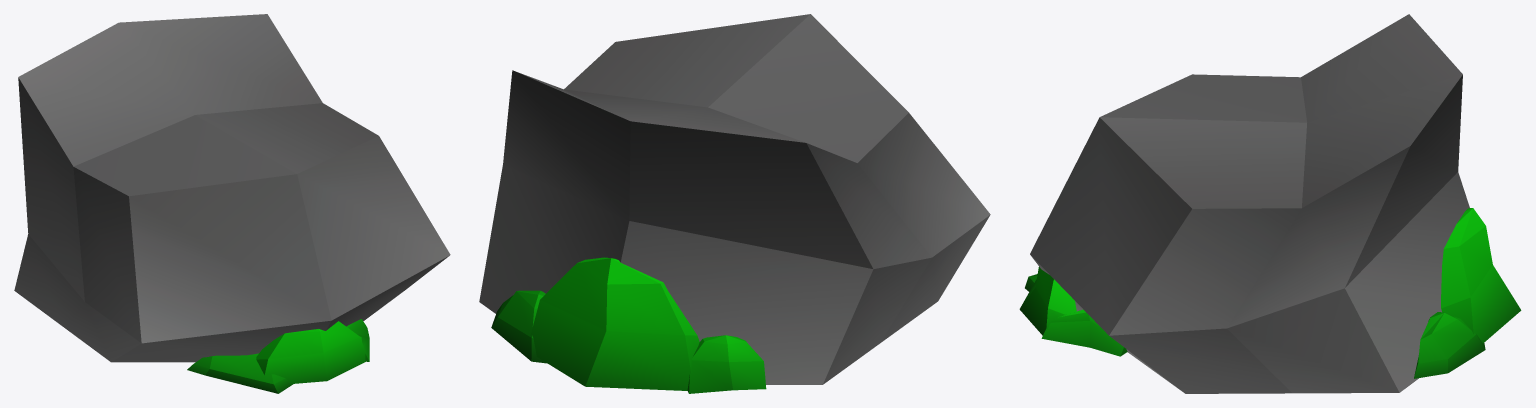
Rendered from Pedra.fbx.
3 renders of one model, left to right at view 1: azimuth 30°, elevation 25°; view 2: azimuth 150°, elevation 25°; view 3: azimuth 270°, elevation 25°, orthographic. The views are drawn at different scales.
Visible parts, largest first — view 1: Pedra; view 2: Pedra; view 3: Pedra.
Part boxes in pixels (box(x1,y1,x2,y2)): Pedra: box(14, 14, 450, 393); Pedra: box(479, 14, 990, 393); Pedra: box(1019, 14, 1521, 393).
Size of the model in its own units: 45.58 by 29.41 by 56.73.
